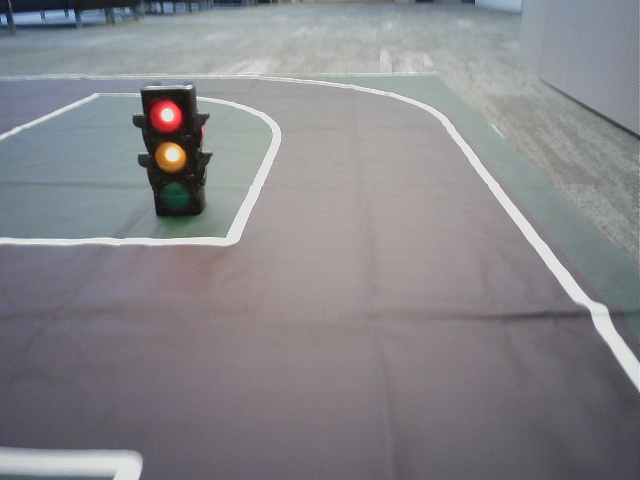red: (147, 90, 197, 215)
